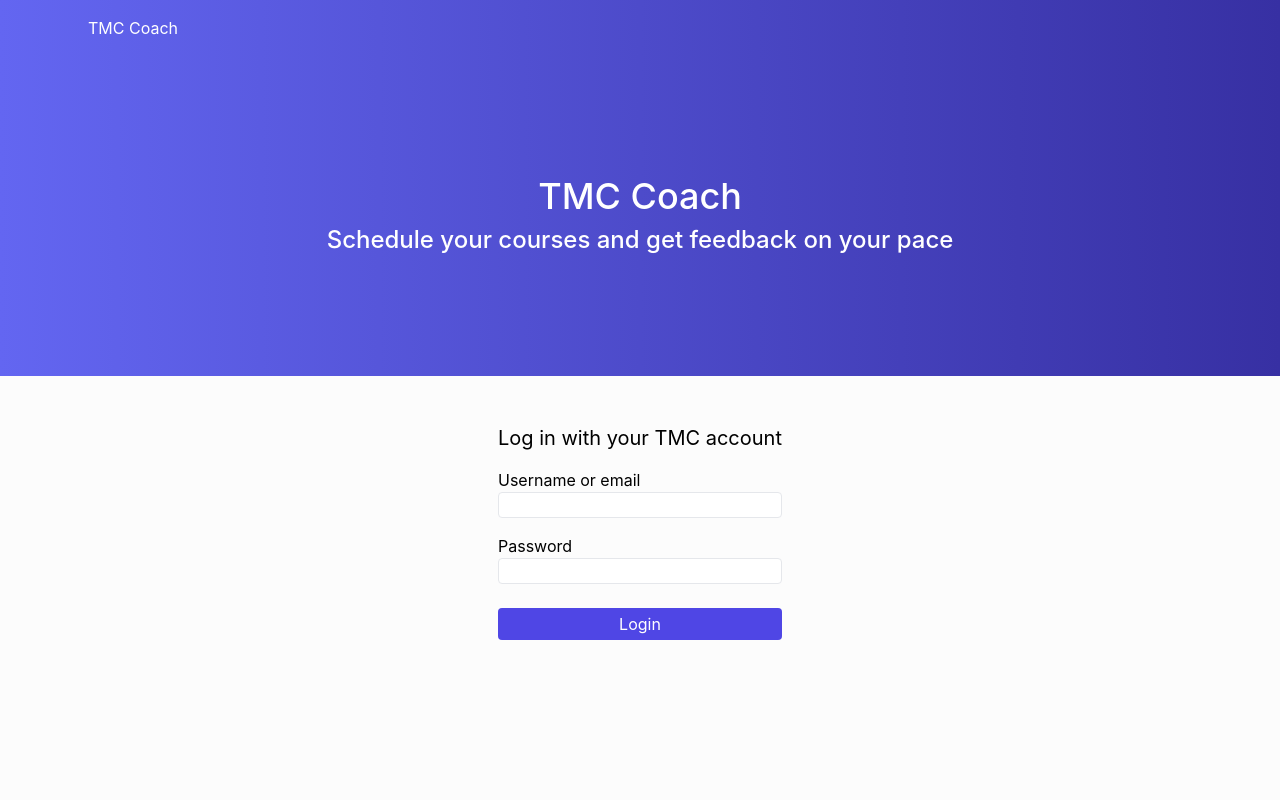
Test: TMC-Coach login › user unable to login with invalid credentials
Type "kayttajanimi" into the field named "username" at (640, 505), box [498,492,782,518]
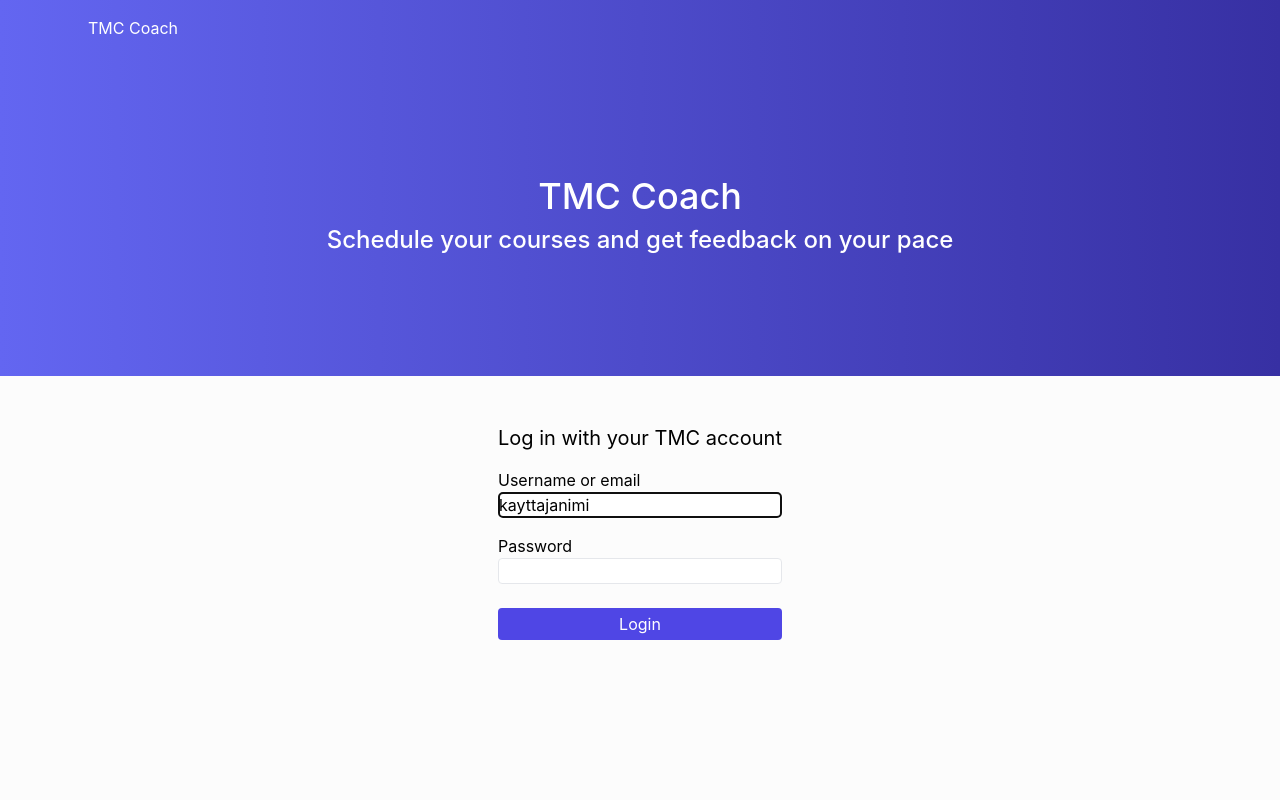
Type "salasana" into the password field named "password" at (640, 571), box [498,558,782,584]
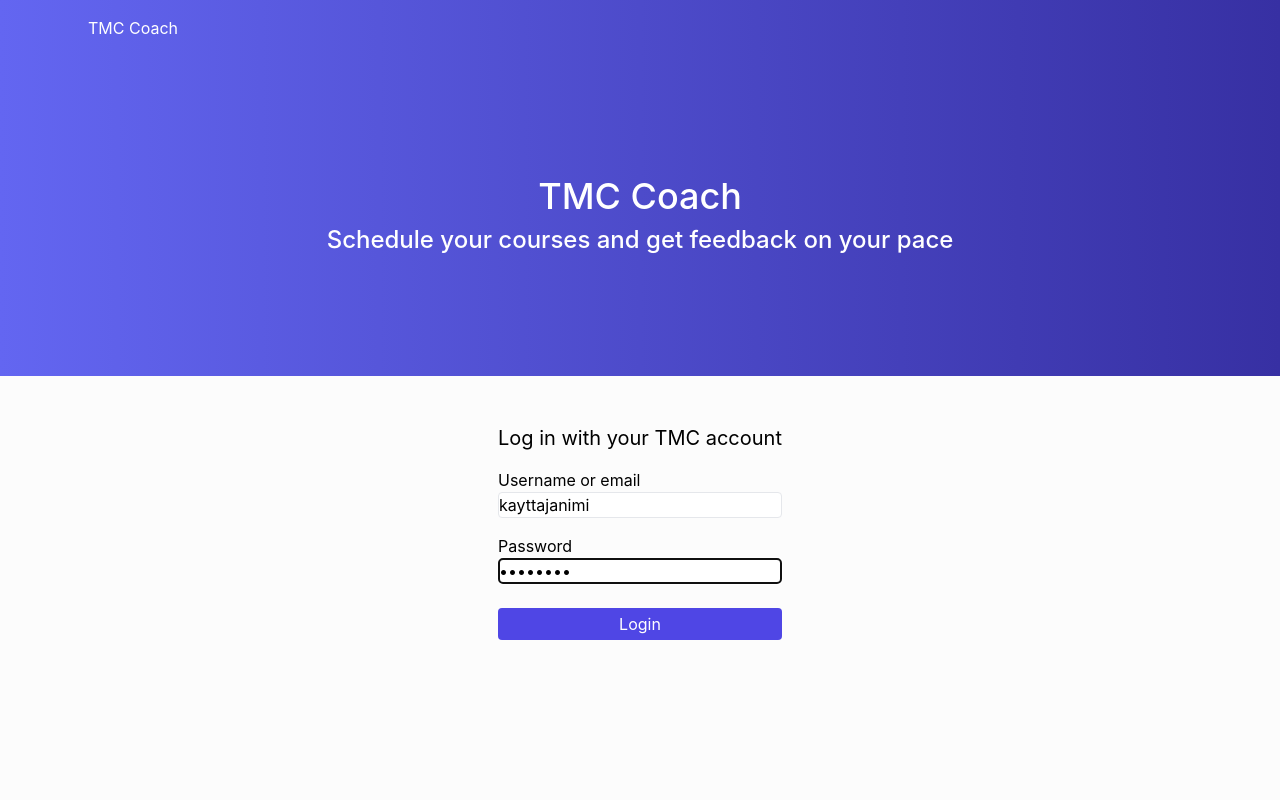
Click the submit button at (640, 624), box [498,608,782,640]
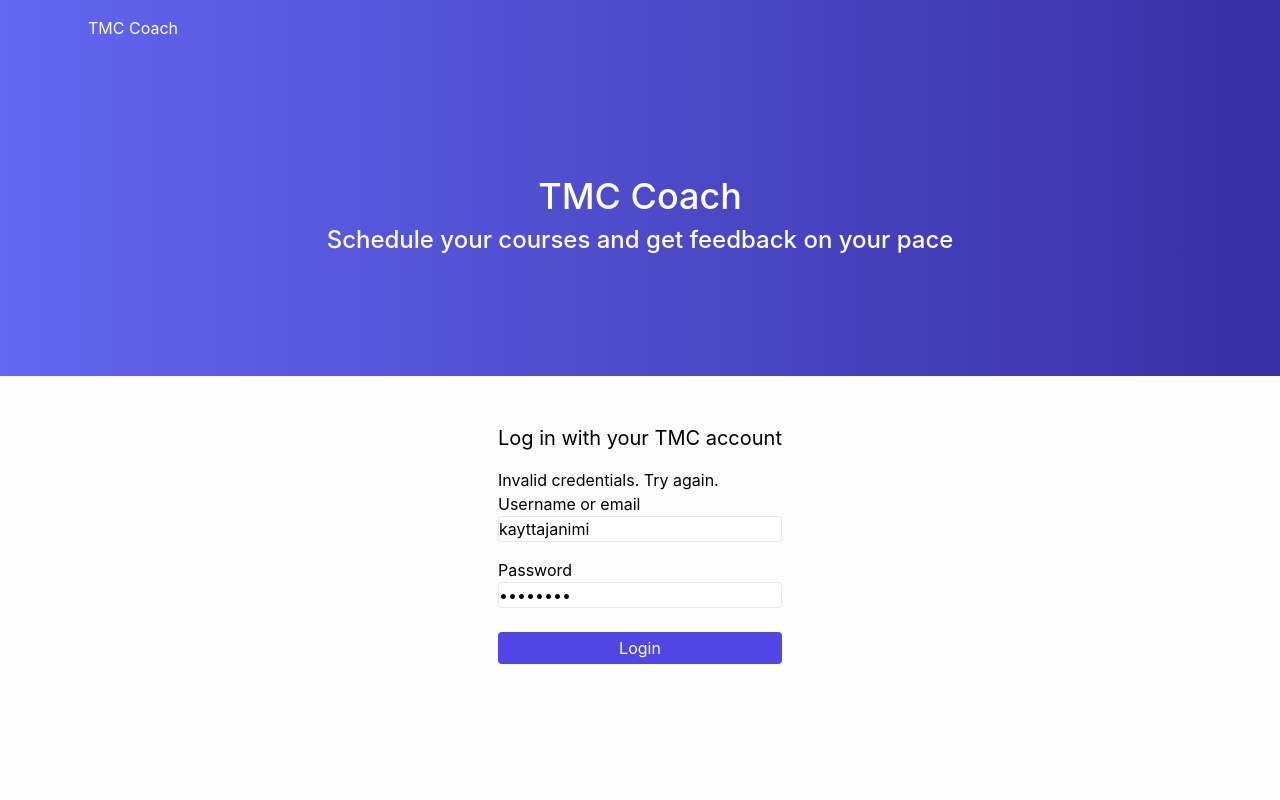
Expected: the text "Invalid credentials. Try again." is shown, [498,470,719,490]
